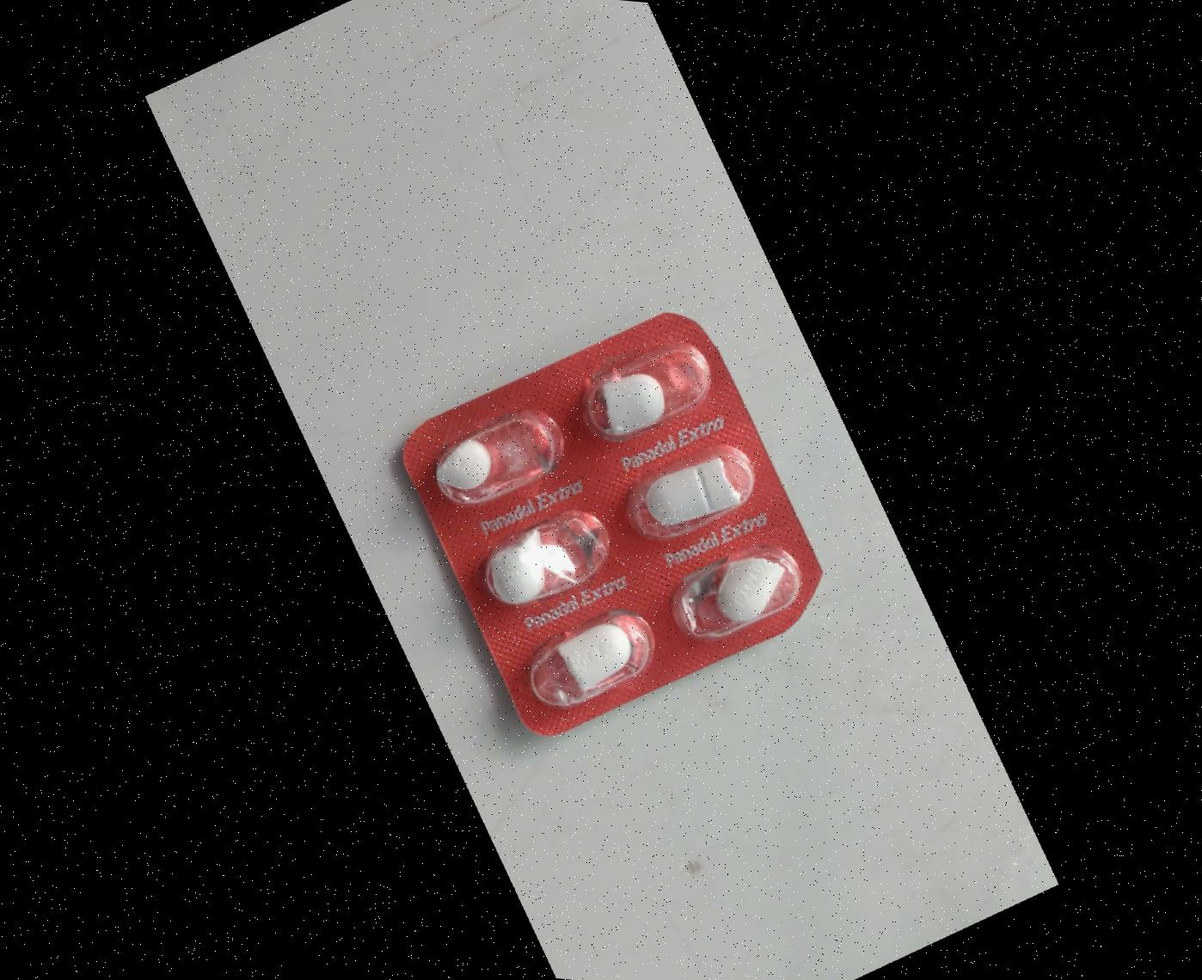Partial: (496, 596, 664, 734), (654, 526, 821, 664), (563, 330, 730, 468), (604, 424, 771, 562), (462, 482, 629, 620), (406, 389, 573, 527)
